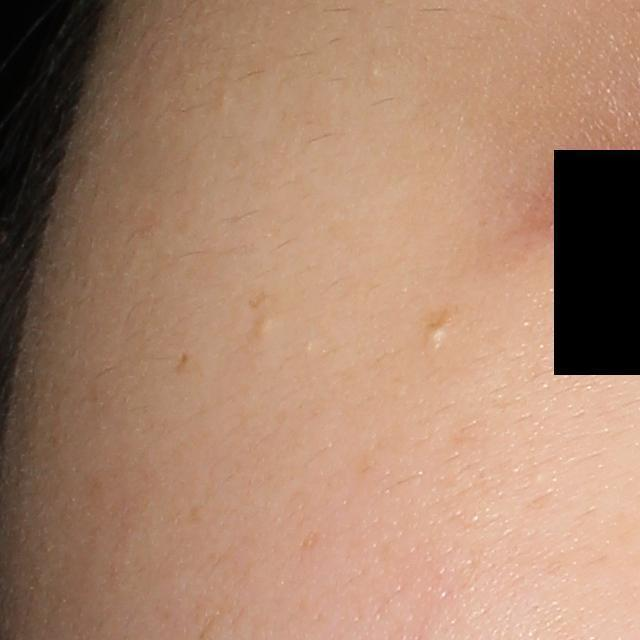melasma: (173, 350, 192, 377), (248, 290, 273, 308)
other: (418, 325, 451, 349)
